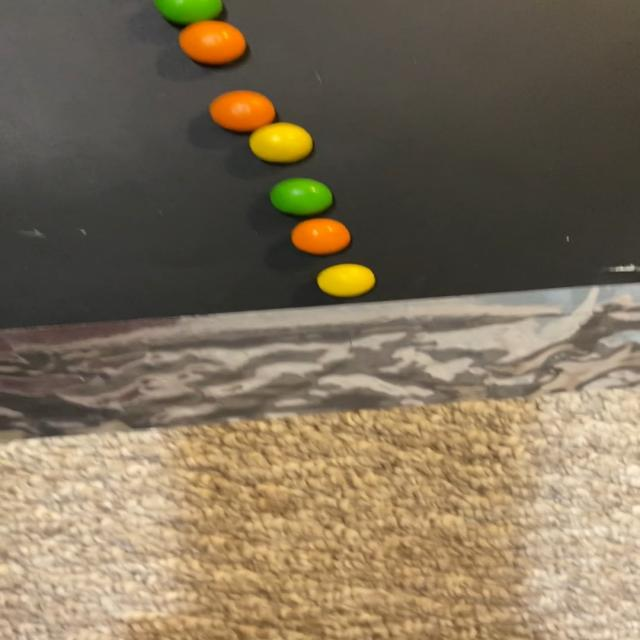smartie: (178, 20, 245, 64), (208, 89, 274, 132), (248, 122, 312, 162), (269, 178, 332, 216), (290, 218, 350, 255), (316, 264, 375, 298)
